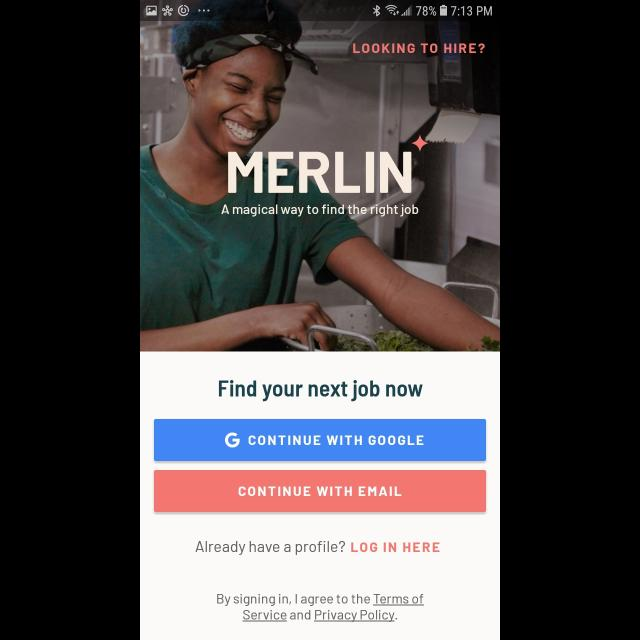image: (140, 1, 500, 352), (228, 134, 428, 193)
text: (218, 594, 424, 622), (219, 380, 423, 402), (196, 540, 440, 556), (222, 205, 418, 217), (353, 42, 485, 54)
textbutton: (154, 470, 486, 512), (154, 419, 486, 461)
uppertaskbar: (140, 1, 500, 22)
